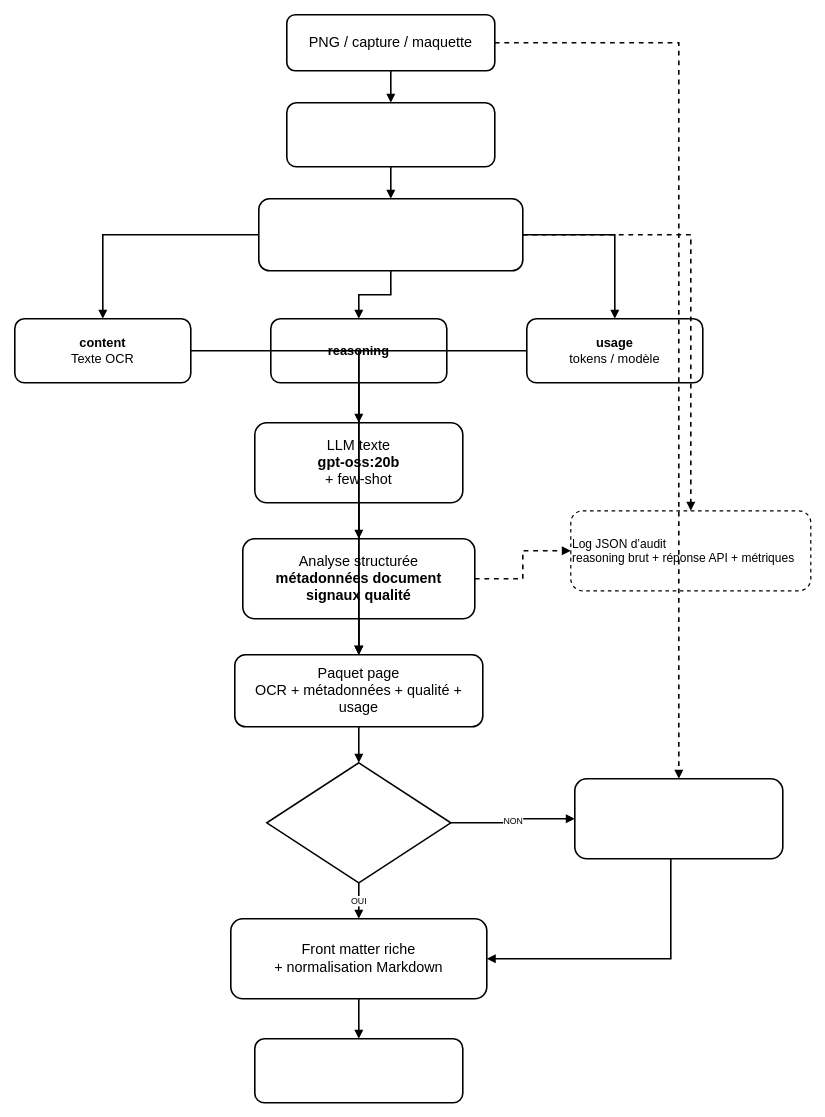
This 825x1117 diagram has some shape labels left out. The centre of each missing label's shape, as x and y in pixels:
Markdown final → Calibre / PDF: the point at 358,1070
Qualité suffisante ?: the point at 358,822
Sortie API content + reasoning + usage: the point at 390,234
VLM 1 GLM-5.3-Flash: the point at 390,134
VLM 2 fallback sur le PNG original: the point at 678,818
